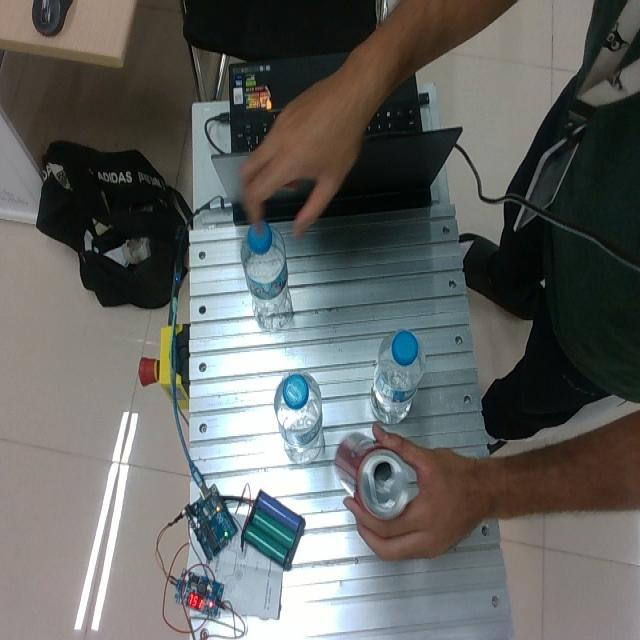coca: (335, 433, 414, 519)
lavie: (240, 220, 293, 332), (370, 329, 424, 424), (274, 371, 323, 464)
